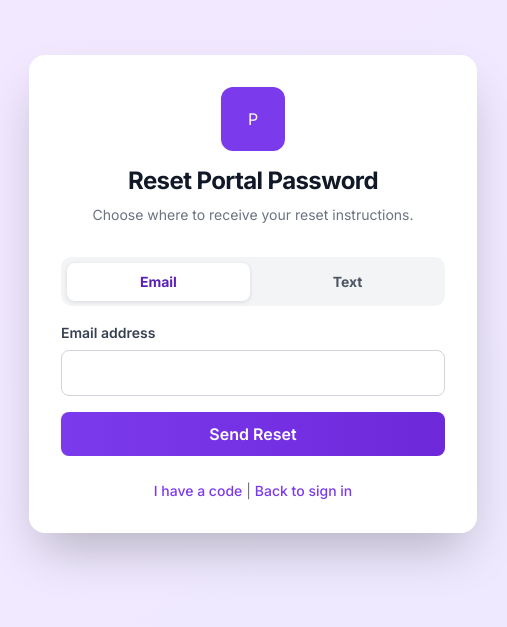
Test: Patient portal pages › requests a patient portal password reset by email
The width and height of the screenshot is (507, 627).
Type "patient@example.com" into the field labelled "Email address" at (253, 373), box [61,350,445,396]
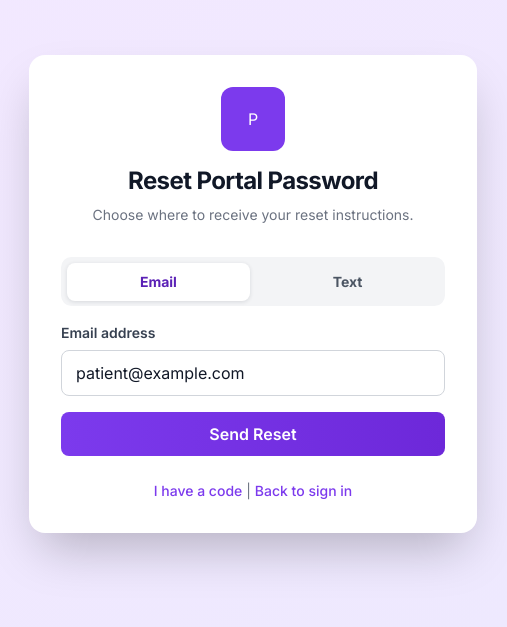
Click the button "Send Reset" at (253, 434), box [61,412,445,456]
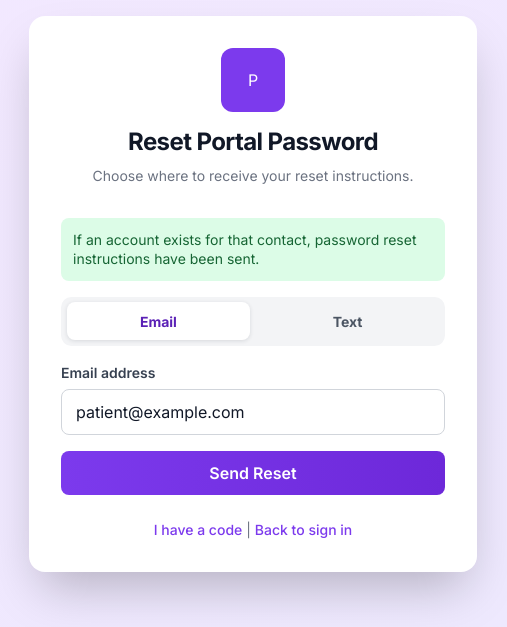
Expected: the text "password reset instructions have been sent" is shown, [73,231,416,267]
